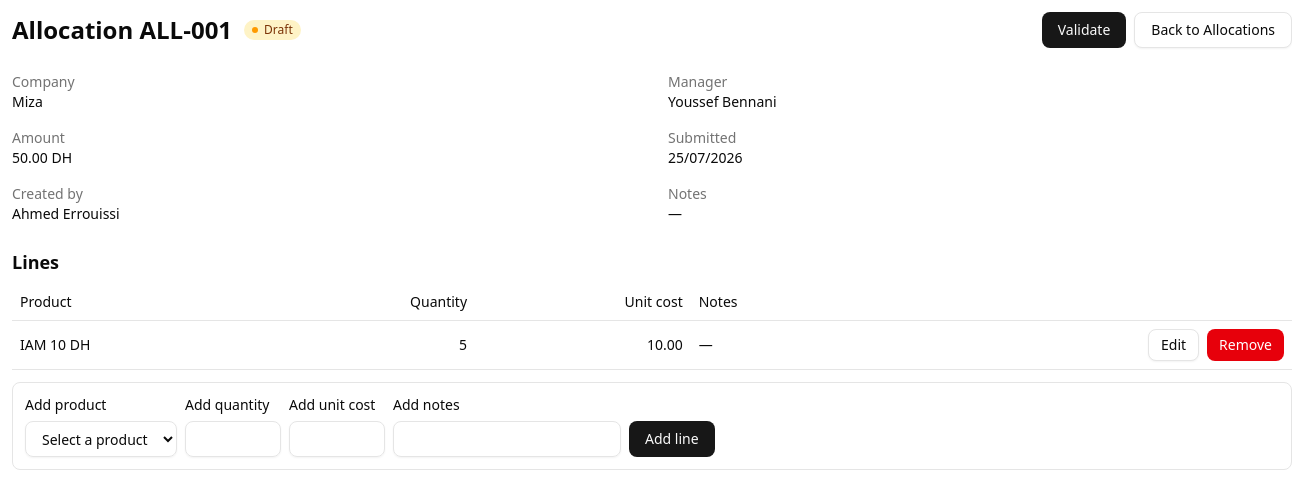
Test case: editing a line › sends the updated values and refetches on success
Step 1. Click the button "Edit" → x=1174, y=345, box [1148,329,1199,361]
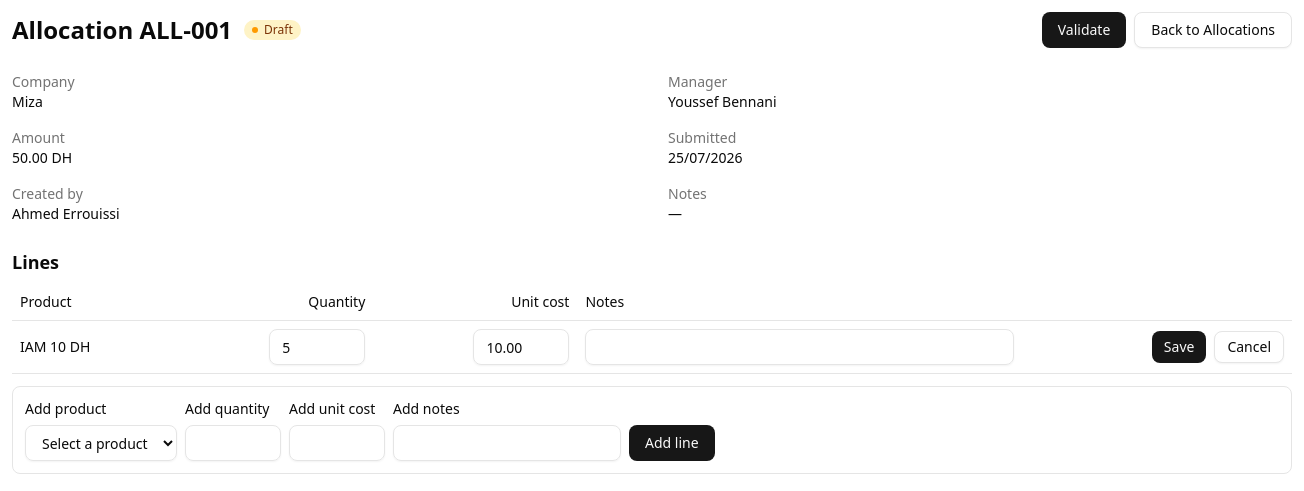
Step 2. Replace the text in the field named "Quantity" with "8" → x=317, y=347, box [269,329,365,365]
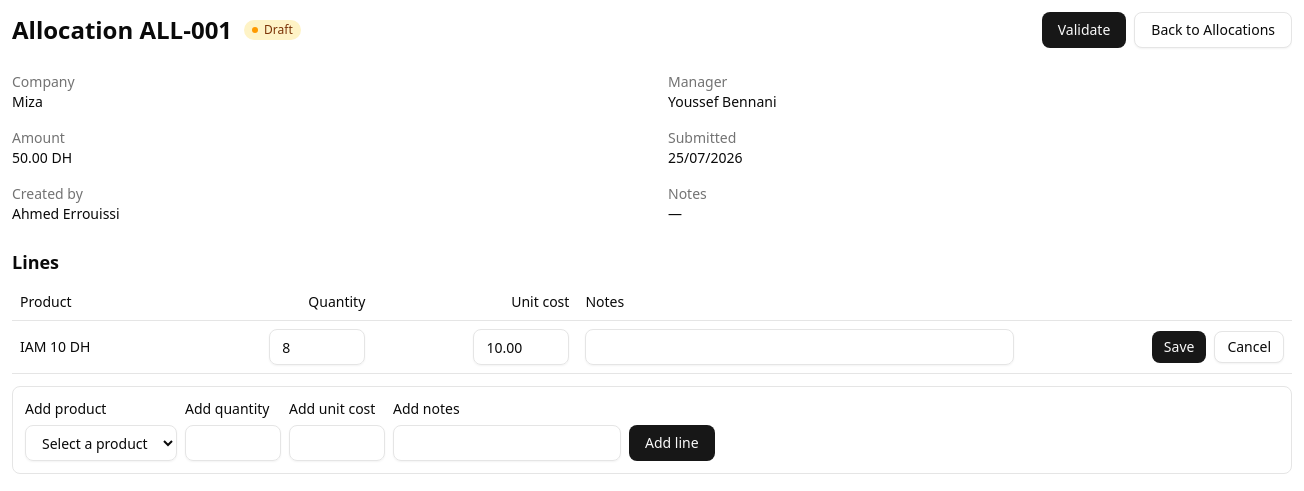
Step 3. Replace the text in the field named "Unit cost" with "12.00" → x=521, y=347, box [473,329,569,365]
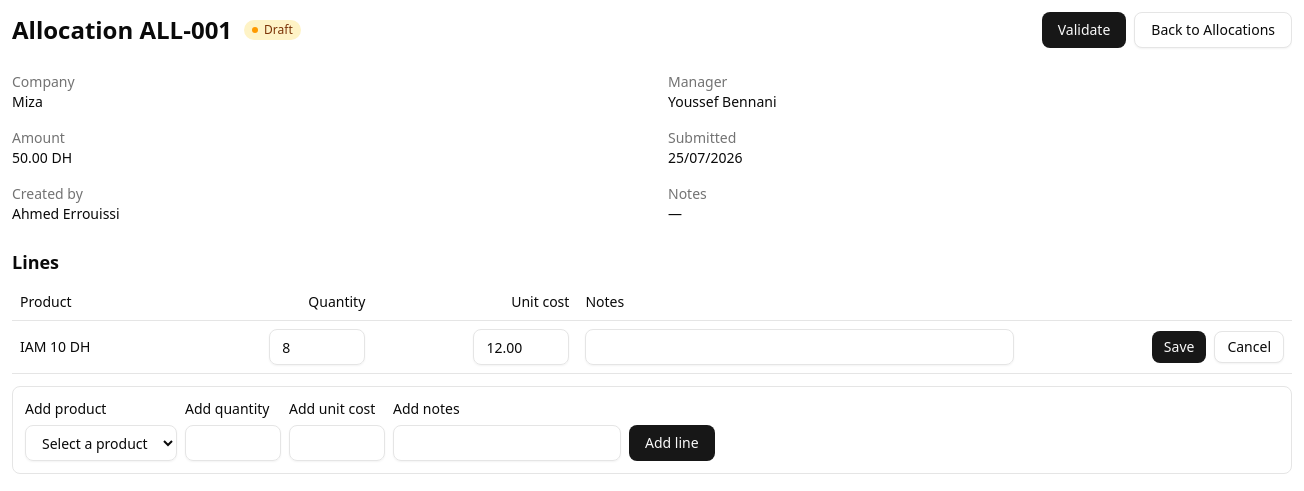
Step 4. Click the button "Save" → x=1179, y=347, box [1152,331,1206,363]
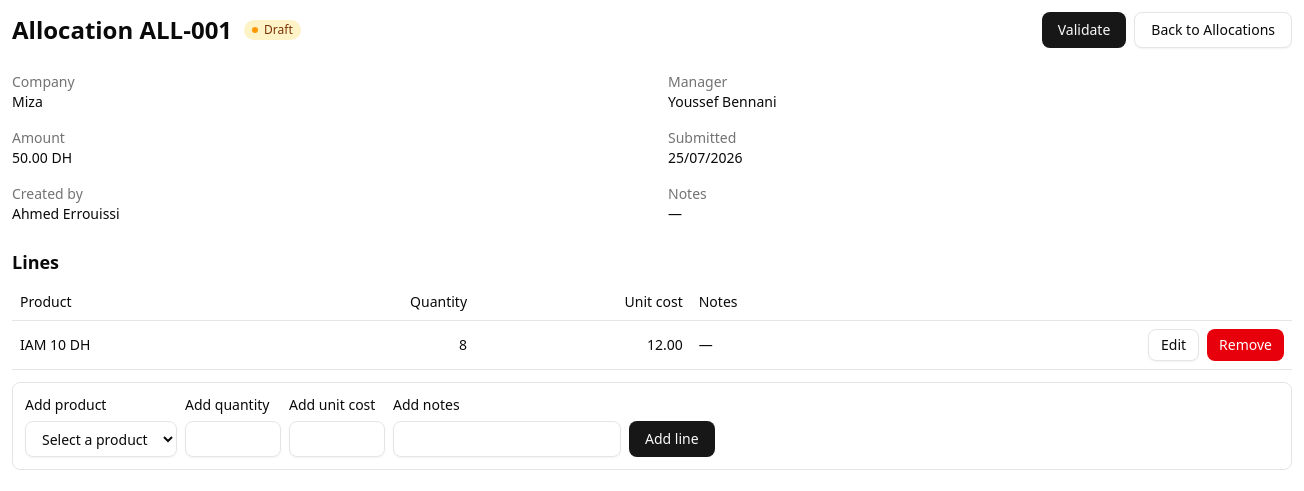
expect the text "8" is shown: met, box [263,320,475,370]
